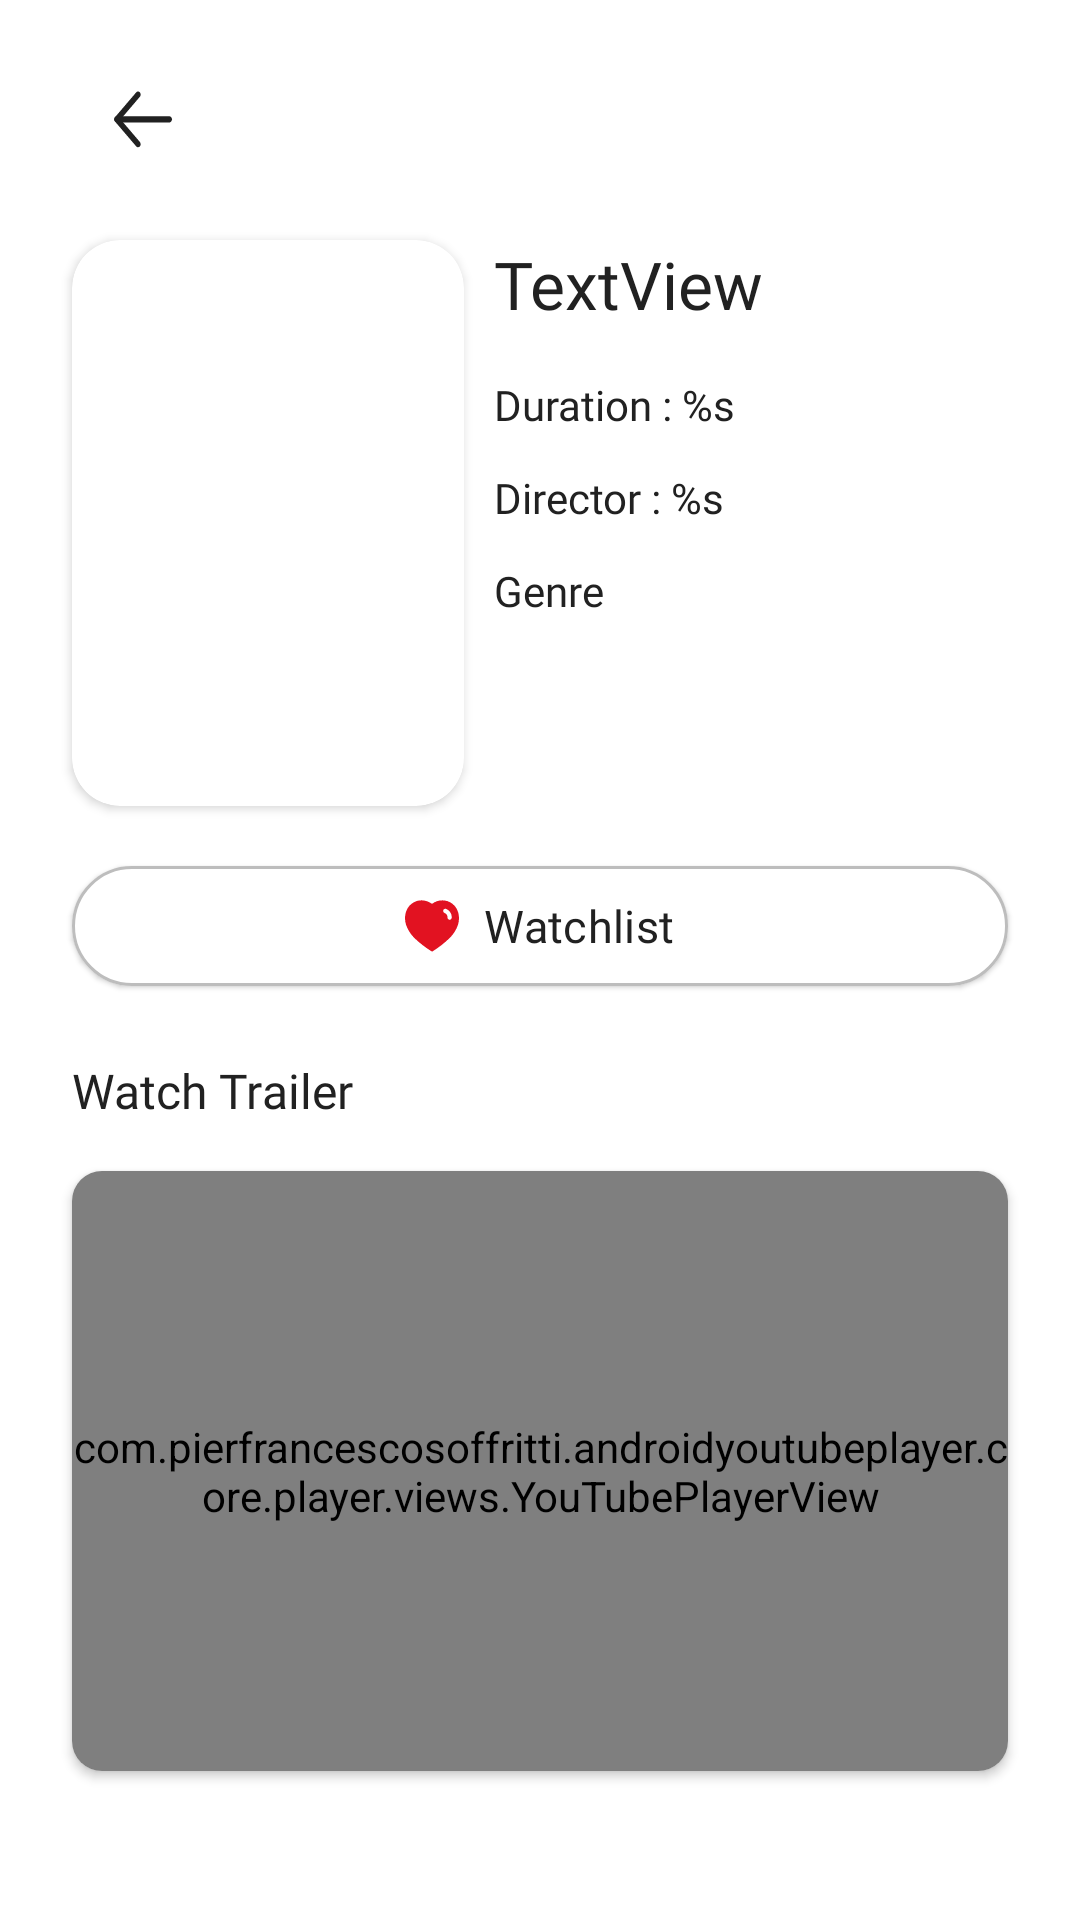

Named icons in this screenshot (1080w x 1920h) and their centers, point (x, y):
arrow left: point (143, 119)
